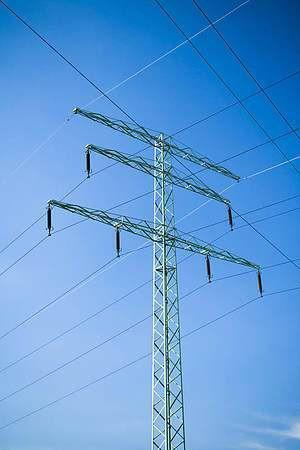power_tower: (50, 103, 264, 450)
